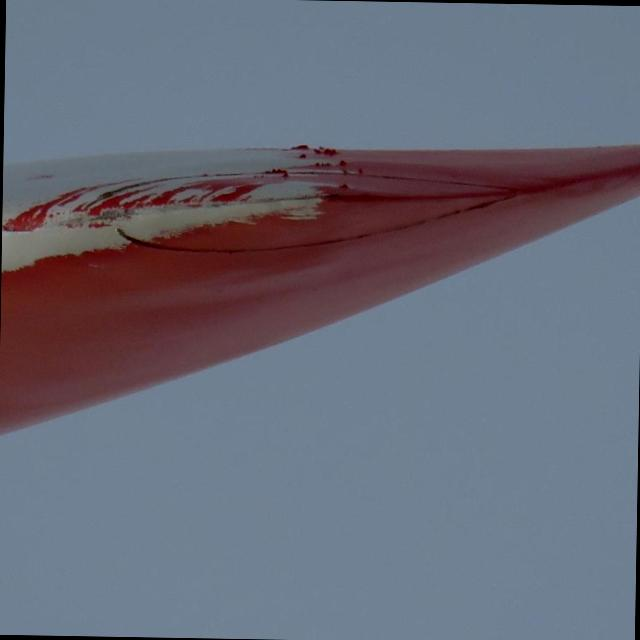surface_peeling: (1, 133, 364, 288)
